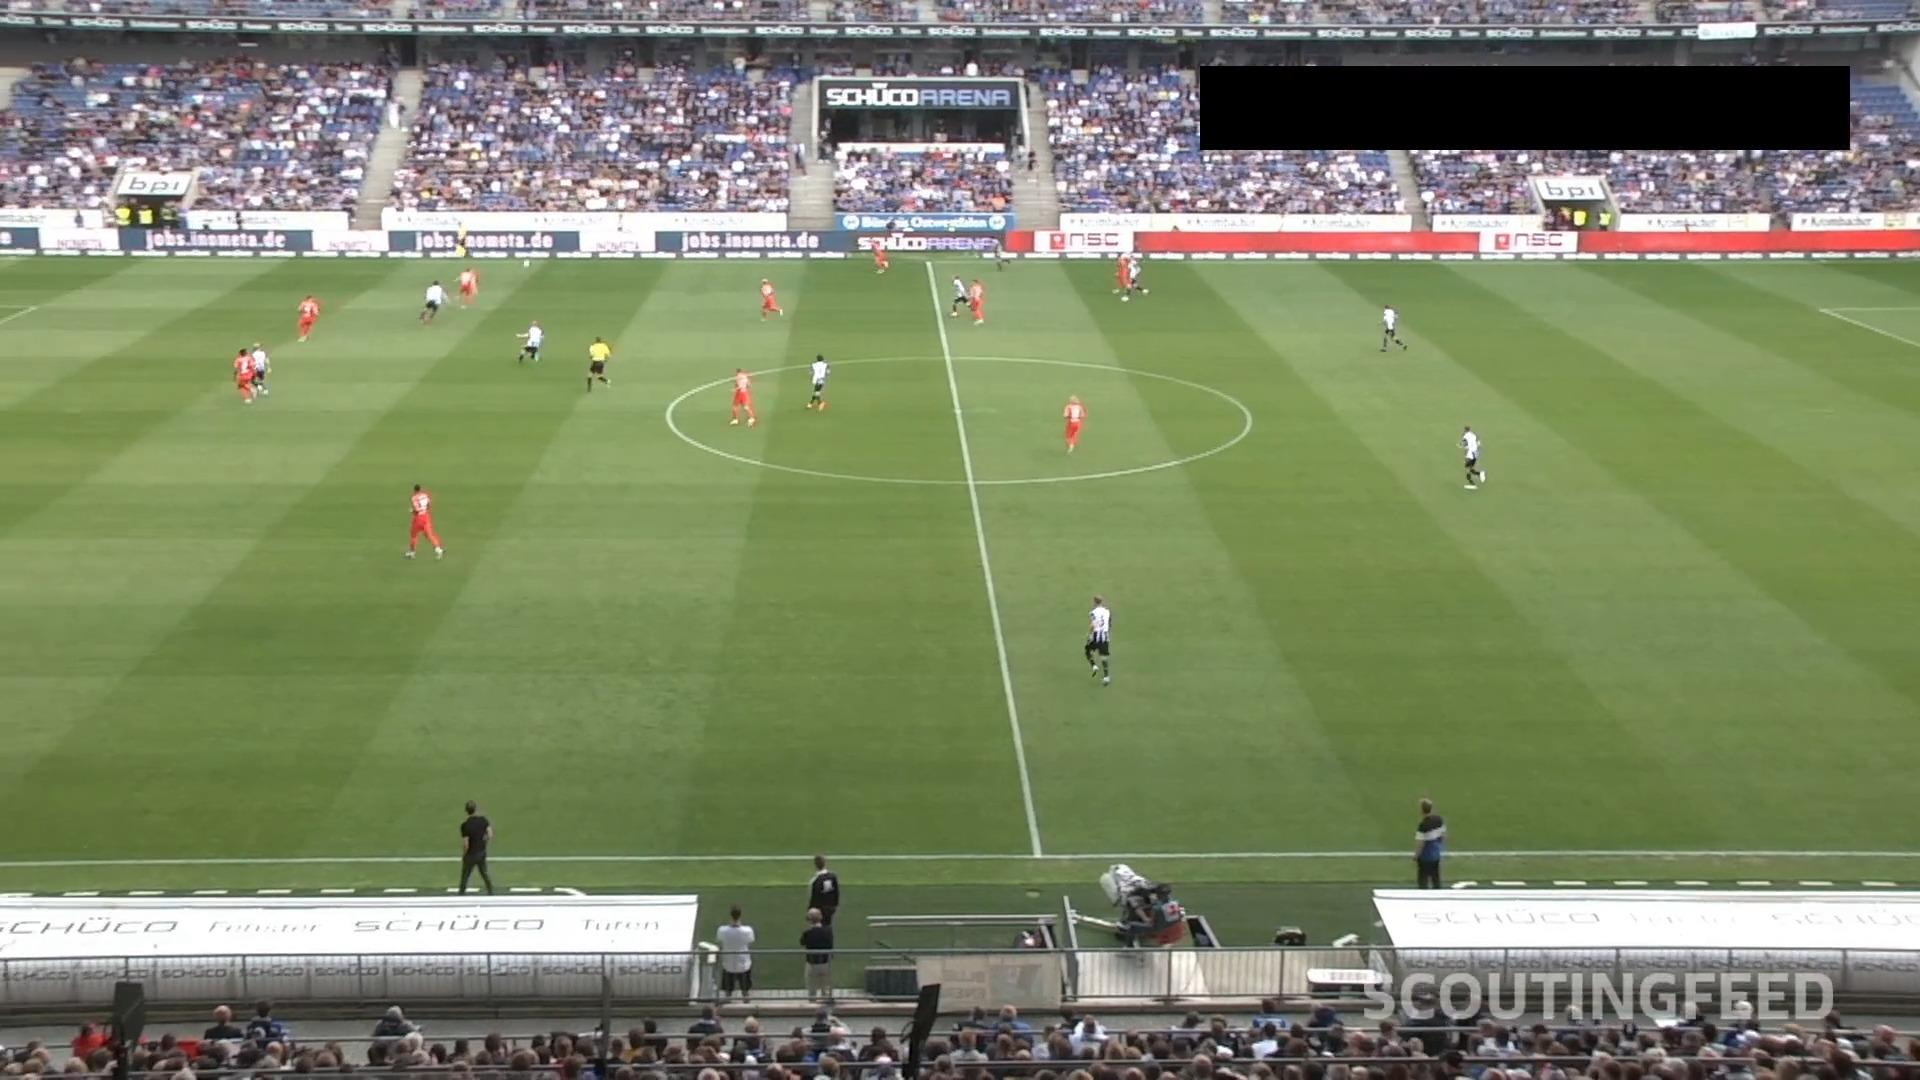ball: (521, 258, 531, 269)
